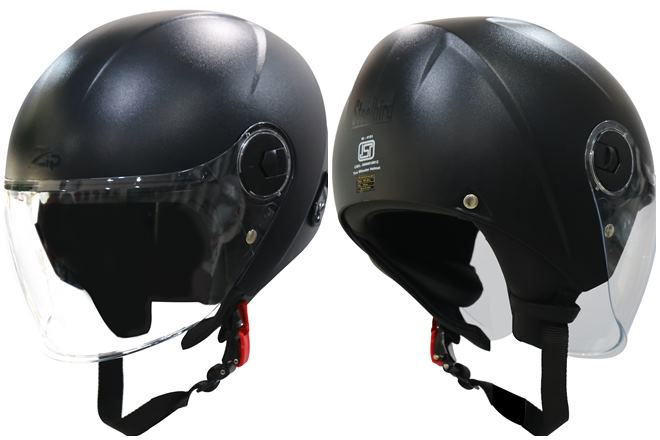helmet: (1, 8, 330, 440)
